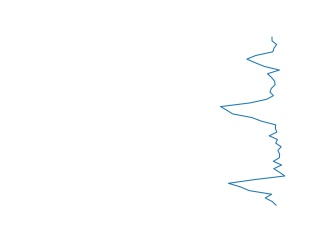underwaterNaturalLevee: (218, 35, 287, 209)
